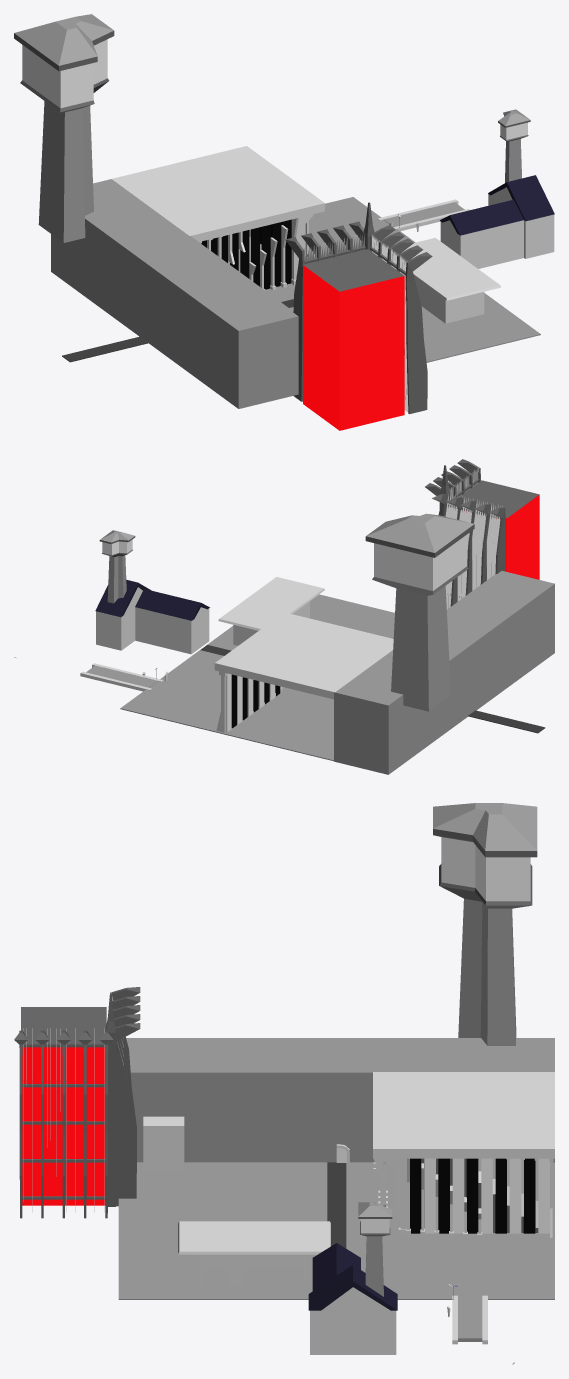
Rendered from test enviornment1.glb.
3 renders of one model, top to bottom at view 1: azimuth 30°, elevation 25°; view 2: azimuth 150°, elevation 25°; view 3: azimuth 270°, elevation 25°, orthographic. The views are drawn at different scales.
Parts seen in each view (by area): view 1: Cube.017, Cube.024, Cube.015, Cube.007, Sidewalk, Cube, Cube.018, Cube.004, Cube.001, Cube.011, Cube.025, Cube.003 (+5 smaller); view 2: Cube.017, Cube.015, Sidewalk, Cube.007, Cube.024, Cube, Cube.004, Cube.001, Cube.025, Cube.035, Cube.013, Cube.032 (+7 smaller); view 3: Sidewalk, Cube.017, Cube.015, Cube.007, Cube.024, Cube.001, Cube.004, Cube.013, Cube.010, Cube.025, Cube.018, Cube.002 (+11 smaller).
Boxes of the visible parts, <box> form: Cube.017: <box>51,179,298,408</box>; Cube.024: <box>303,249,404,430</box>; Cube.015: <box>14,14,114,242</box>; Cube.007: <box>112,146,324,241</box>; Sidewalk: <box>228,197,540,362</box>; Cube: <box>440,199,523,268</box>; Cube.018: <box>370,225,432,414</box>; Cube.004: <box>402,237,500,300</box>; Cube.001: <box>488,175,554,258</box>; Cube.011: <box>201,219,291,289</box>; Cube.025: <box>285,221,365,401</box>; Cube.003: <box>414,277,484,323</box>; Cube.017: <box>334,571,554,774</box>; Cube.015: <box>365,513,474,711</box>; Sidewalk: <box>120,594,394,761</box>; Cube.007: <box>214,612,393,699</box>; Cube.024: <box>451,480,539,579</box>; Cube: <box>135,589,209,654</box>; Cube.004: <box>218,577,324,630</box>; Cube.001: <box>95,579,151,650</box>; Cube.025: <box>432,494,505,606</box>; Cube.035: <box>99,530,135,603</box>; Cube.013: <box>225,673,275,732</box>; Cube.032: <box>80,663,163,691</box>; Sidewalk: <box>118,1162,554,1299</box>; Cube.017: <box>126,1038,554,1162</box>; Cube.015: <box>433,803,537,1045</box>; Cube.007: <box>373,1072,554,1158</box>; Cube.024: <box>21,1007,106,1205</box>; Cube.001: <box>308,1265,397,1354</box>; Cube.004: <box>178,1221,330,1256</box>; Cube.013: <box>424,1158,549,1233</box>; Cube.010: <box>410,1158,535,1233</box>; Cube.025: <box>110,987,140,1206</box>; Cube.018: <box>14,1030,113,1218</box>; Cube.002: <box>143,1116,184,1171</box>.
Bounding box in the file's own units: 502 × 256 × 390.
